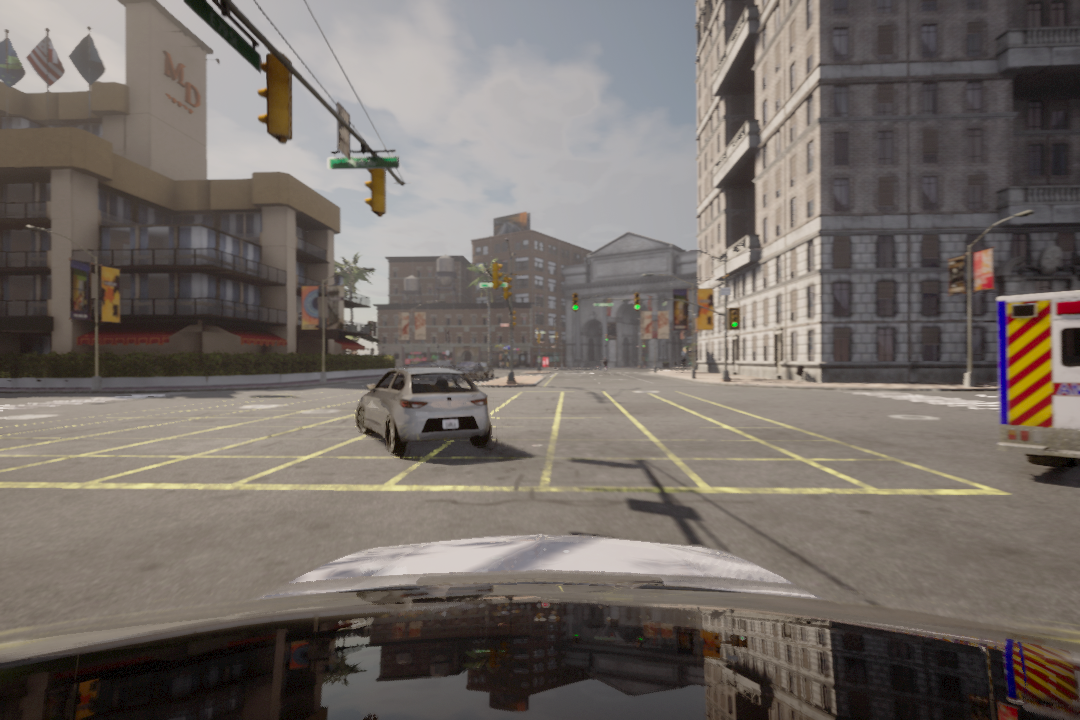TrafficLight: (632, 291, 644, 315), (728, 309, 741, 331), (571, 293, 581, 313)
